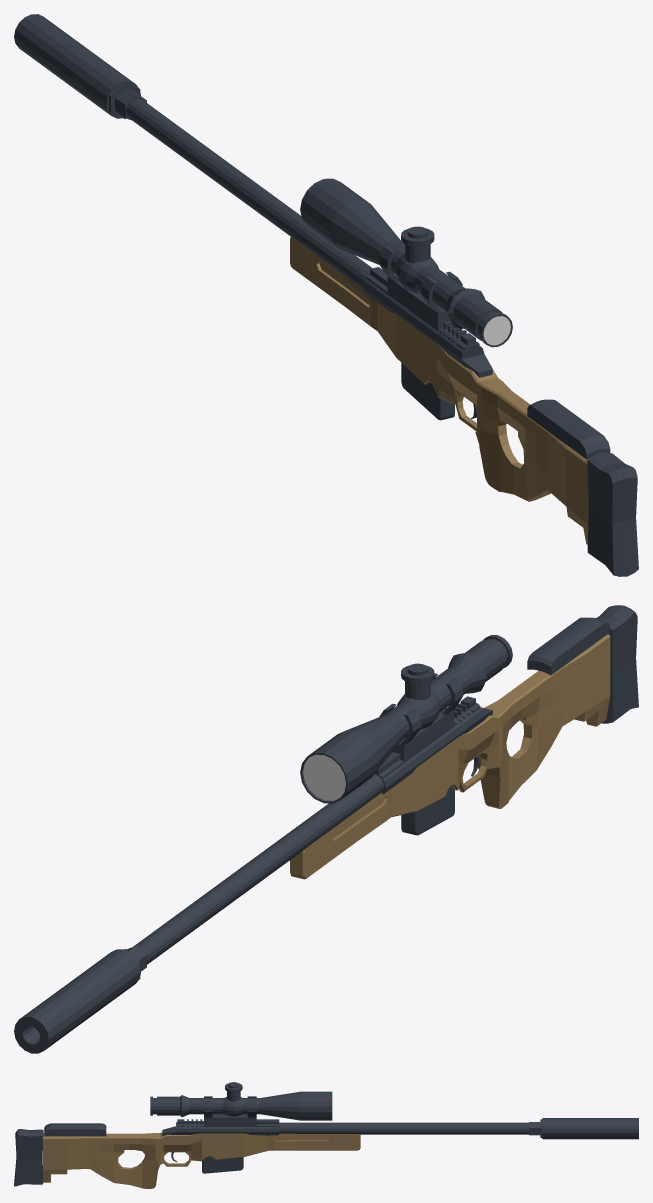
File: Sniper Rifle.fbx
The picture shows the model from 3 angles, top to bottom: view 1: azimuth 30°, elevation 25°; view 2: azimuth 150°, elevation 25°; view 3: azimuth 270°, elevation 25°; orthographic projection. The views are drawn at different scales.
Parts seen in each view (by area): view 1: Rifle; view 2: Rifle, Back Lens; view 3: Rifle.
Part boxes in pixels (x1,y1,x2,y2): Rifle: (14, 14, 638, 576); Rifle: (14, 605, 638, 1053); Back Lens: (303, 754, 345, 800); Rifle: (14, 1082, 638, 1188).
Size of the model in its own units: 44.31 by 175 by 960.
